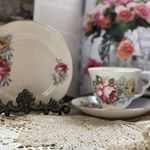cups: (85, 64, 150, 108)
